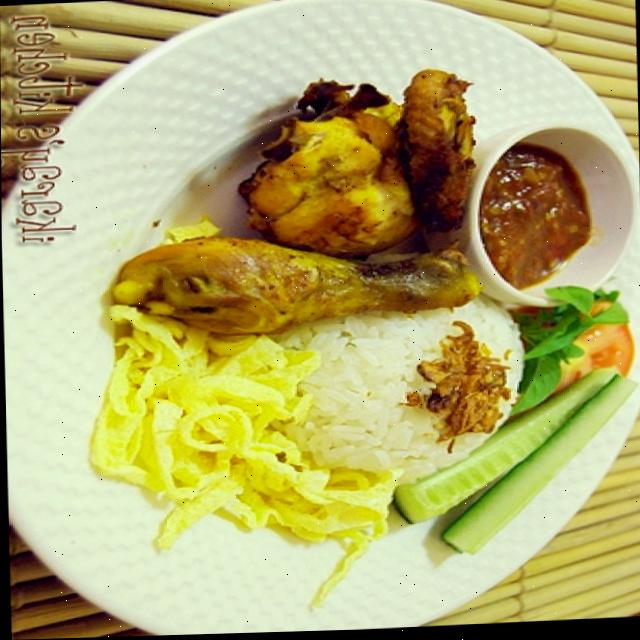米饭主食: (66, 46, 640, 583)
